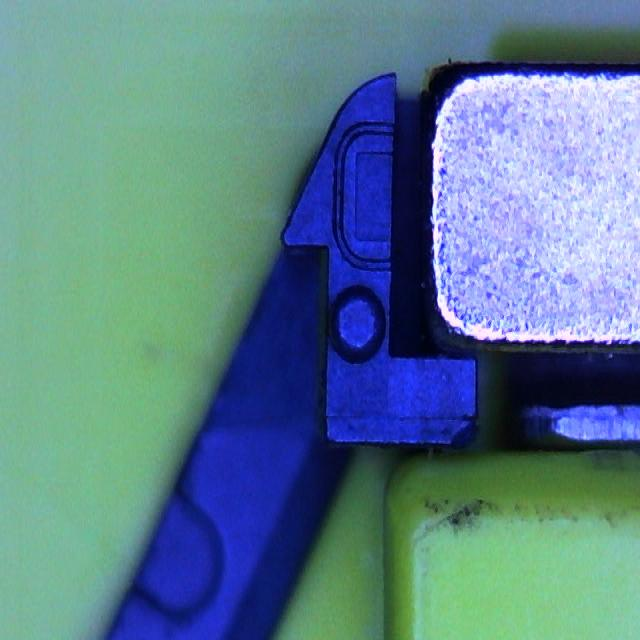noResin: (332, 119, 399, 275)
